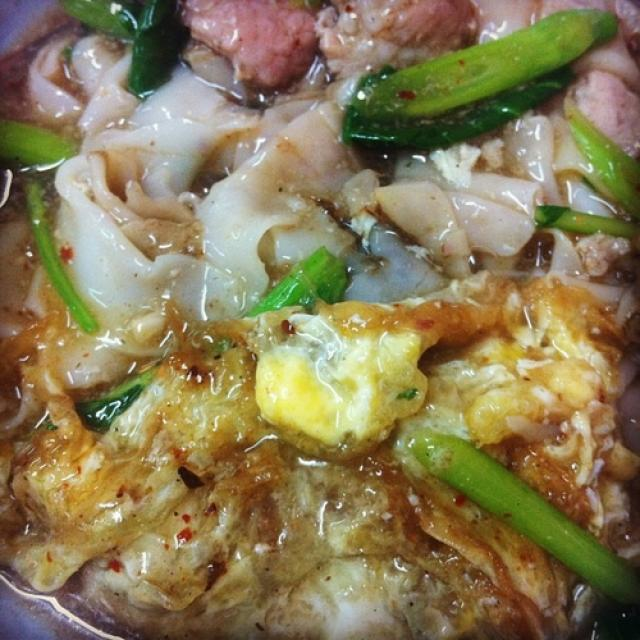面条主食: (22, 21, 623, 618)
